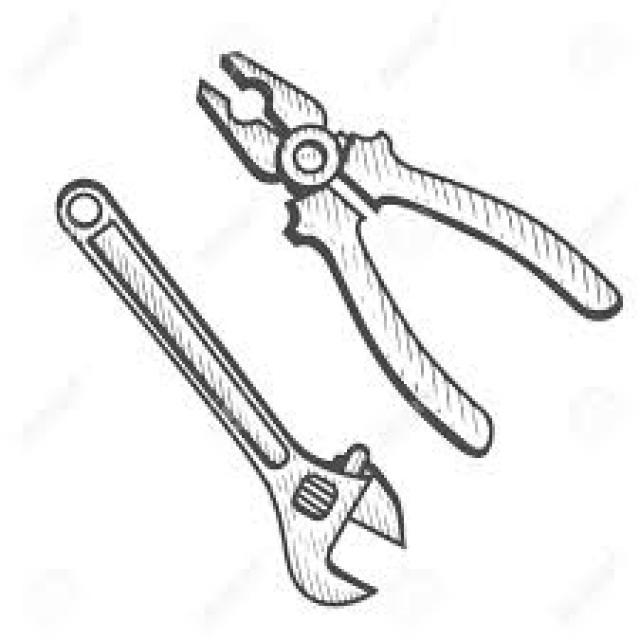pliers: (182, 40, 614, 438)
wrench: (33, 155, 411, 610)
